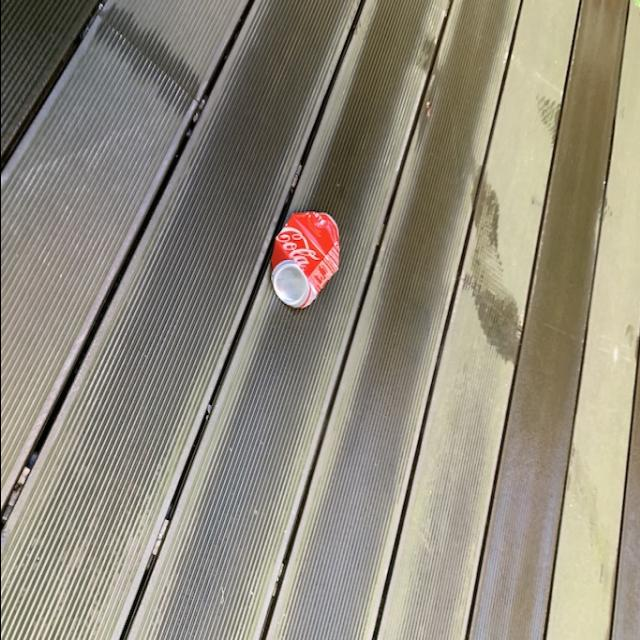Aluminum Can: (267, 202, 343, 316)
